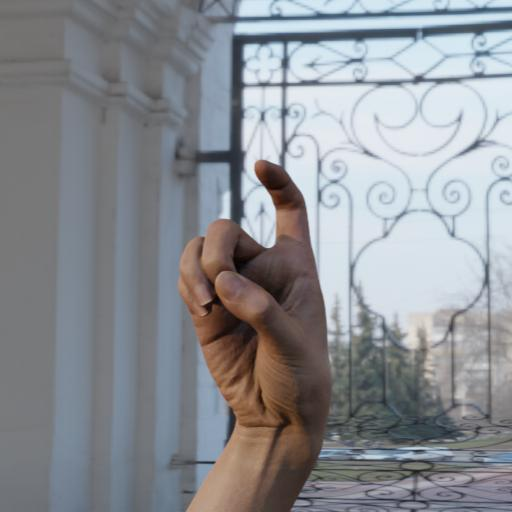X: (159, 143, 363, 444)
